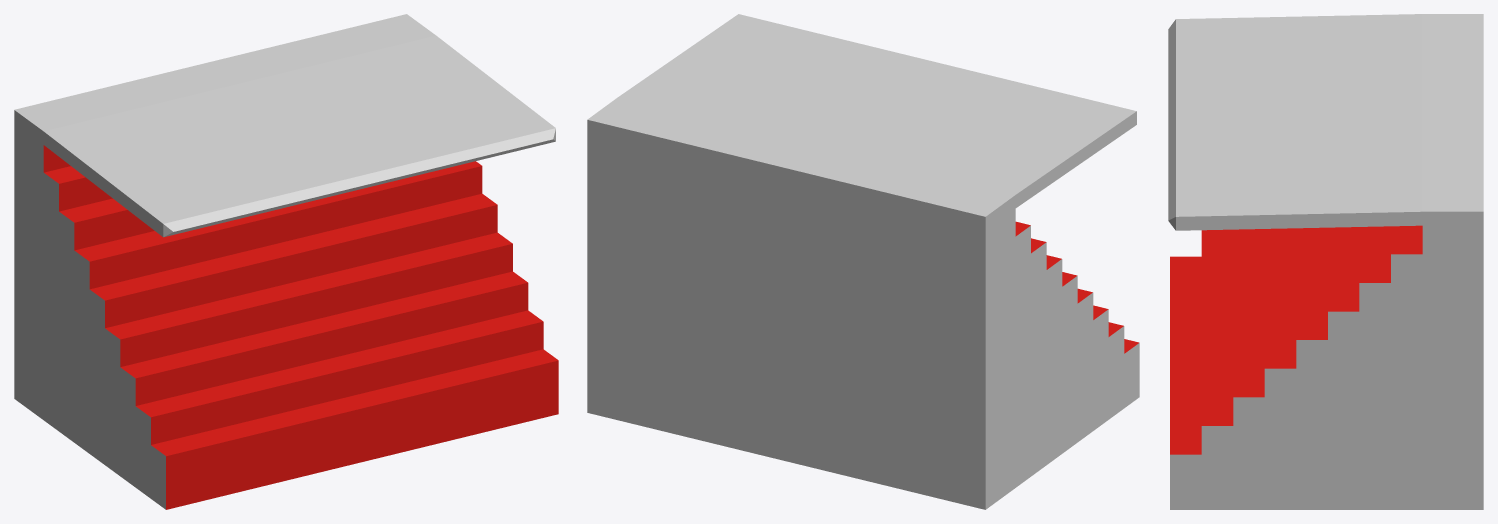
File: red_stand.glb
The picture shows the model from 3 angles, left to right: view 1: azimuth 30°, elevation 25°; view 2: azimuth 150°, elevation 25°; view 3: azimuth 270°, elevation 25°; orthographic projection. The views are drawn at different scales.
Visible parts, largest first — view 1: red_stand; view 2: red_stand; view 3: red_stand.
Boxes of the visible parts, x1,y1,x2,y2 form: red_stand: (14, 14, 558, 509); red_stand: (587, 14, 1139, 509); red_stand: (1168, 14, 1483, 509).
Bounding box in the file's own units: 37.49 × 26.36 × 25.28.
